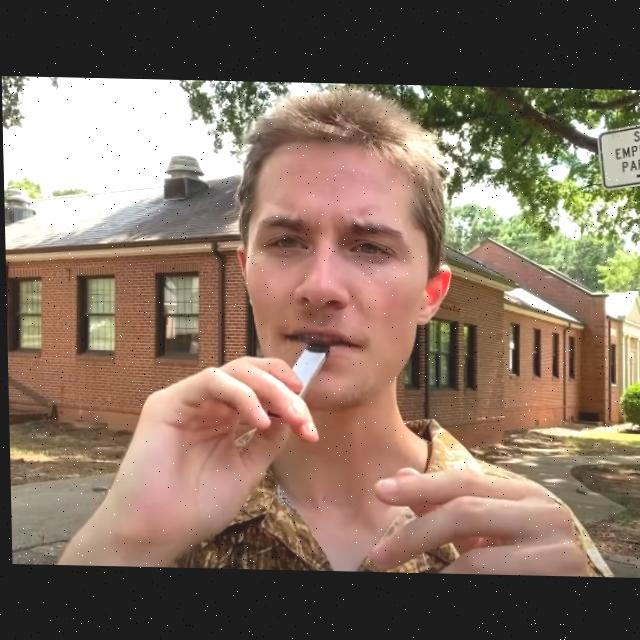vape: (290, 342, 330, 399)
